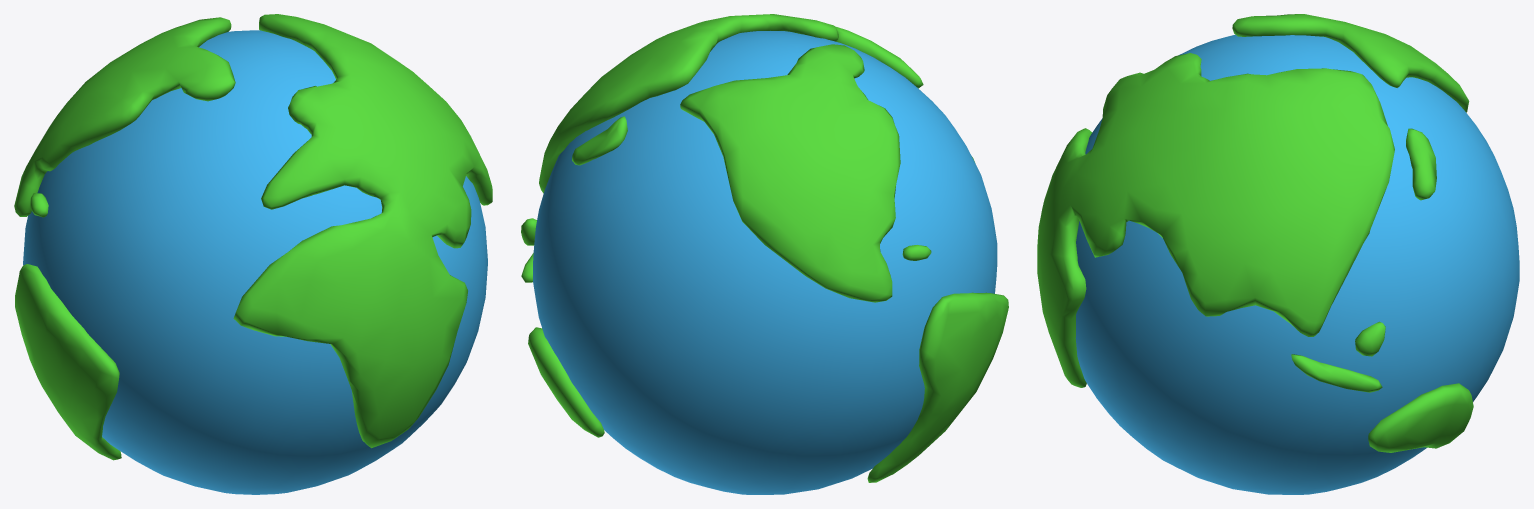
File: earth-transformed.glb
3 views of the same model, side by side, from view 1: azimuth 30°, elevation 25°; view 2: azimuth 150°, elevation 25°; view 3: azimuth 270°, elevation 25° (orthographic).
Parts seen in each view (by area): view 1: Icosphere, Icosphere.004; view 2: Icosphere, Icosphere.004; view 3: Icosphere, Icosphere.004.
Part boxes in pixels (x1,y1,x2,y2): Icosphere: (23,30,487,494); Icosphere.004: (14,14,492,460); Icosphere: (533,31,997,494); Icosphere.004: (521,14,1008,482); Icosphere: (1075,34,1519,494); Icosphere.004: (1037,14,1473,452).
Size of the model in its own units: 2.08 by 2.01 by 2.02.
